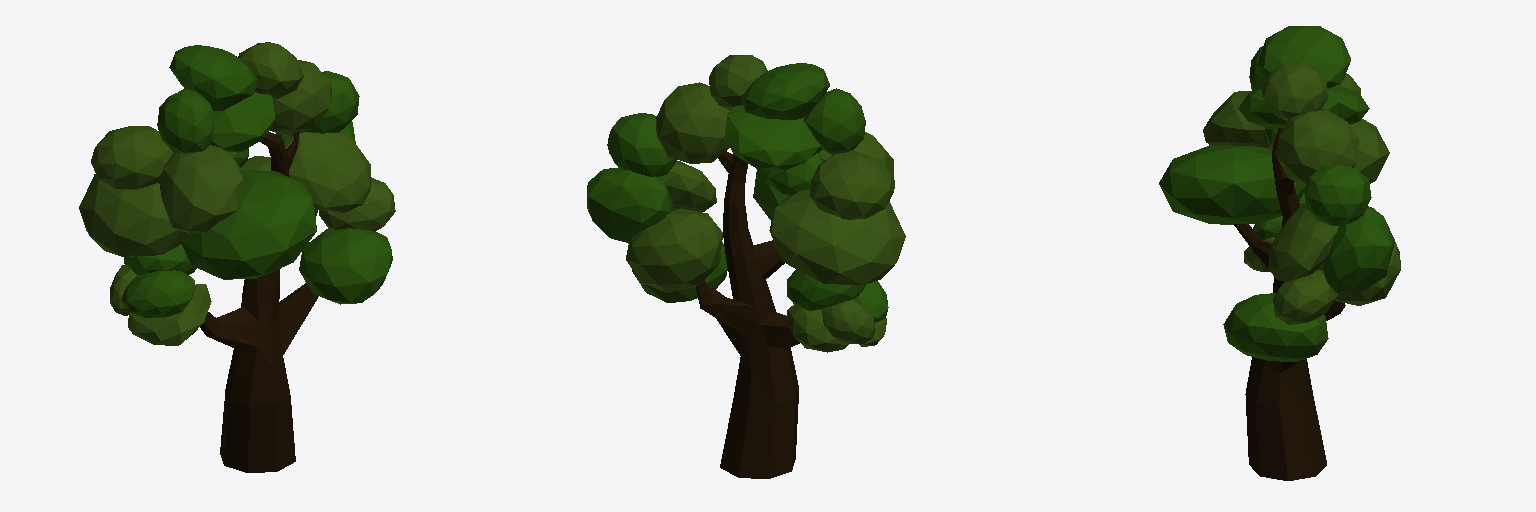
The model's file is Oak_Tree.obj.
The picture shows the model from 3 angles: view 1: azimuth 30°, elevation 25°; view 2: azimuth 150°, elevation 25°; view 3: azimuth 270°, elevation 25°; orthographic projection.
Visible parts, largest first — view 1: Oak_Cylinder.004; view 2: Oak_Cylinder.004; view 3: Oak_Cylinder.004.
Boxes of the visible parts, box(x1,y1,x2,y2) form: Oak_Cylinder.004: box(79, 42, 395, 472); Oak_Cylinder.004: box(587, 55, 905, 478); Oak_Cylinder.004: box(1159, 26, 1400, 480).
Bounding box in the file's own units: 3.96 × 5.31 × 2.84.